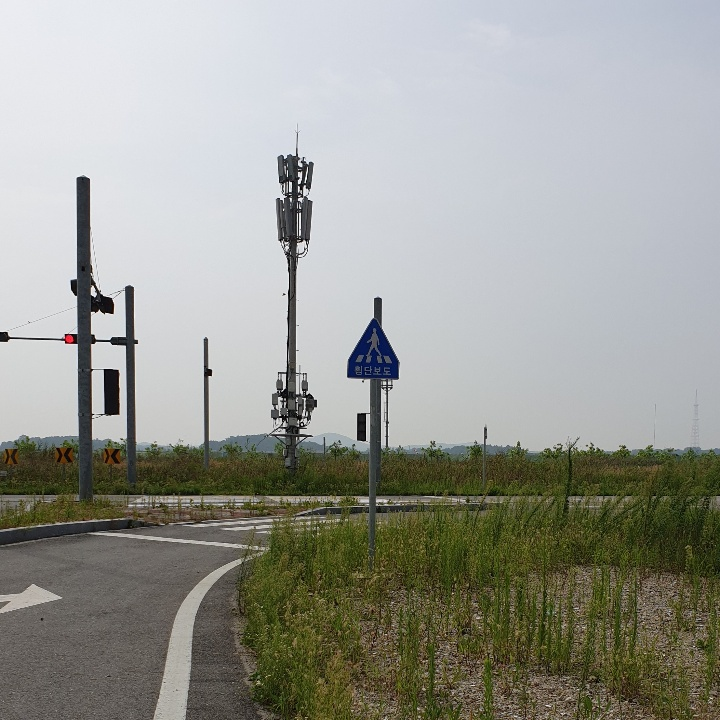cross: (359, 324, 388, 362)
